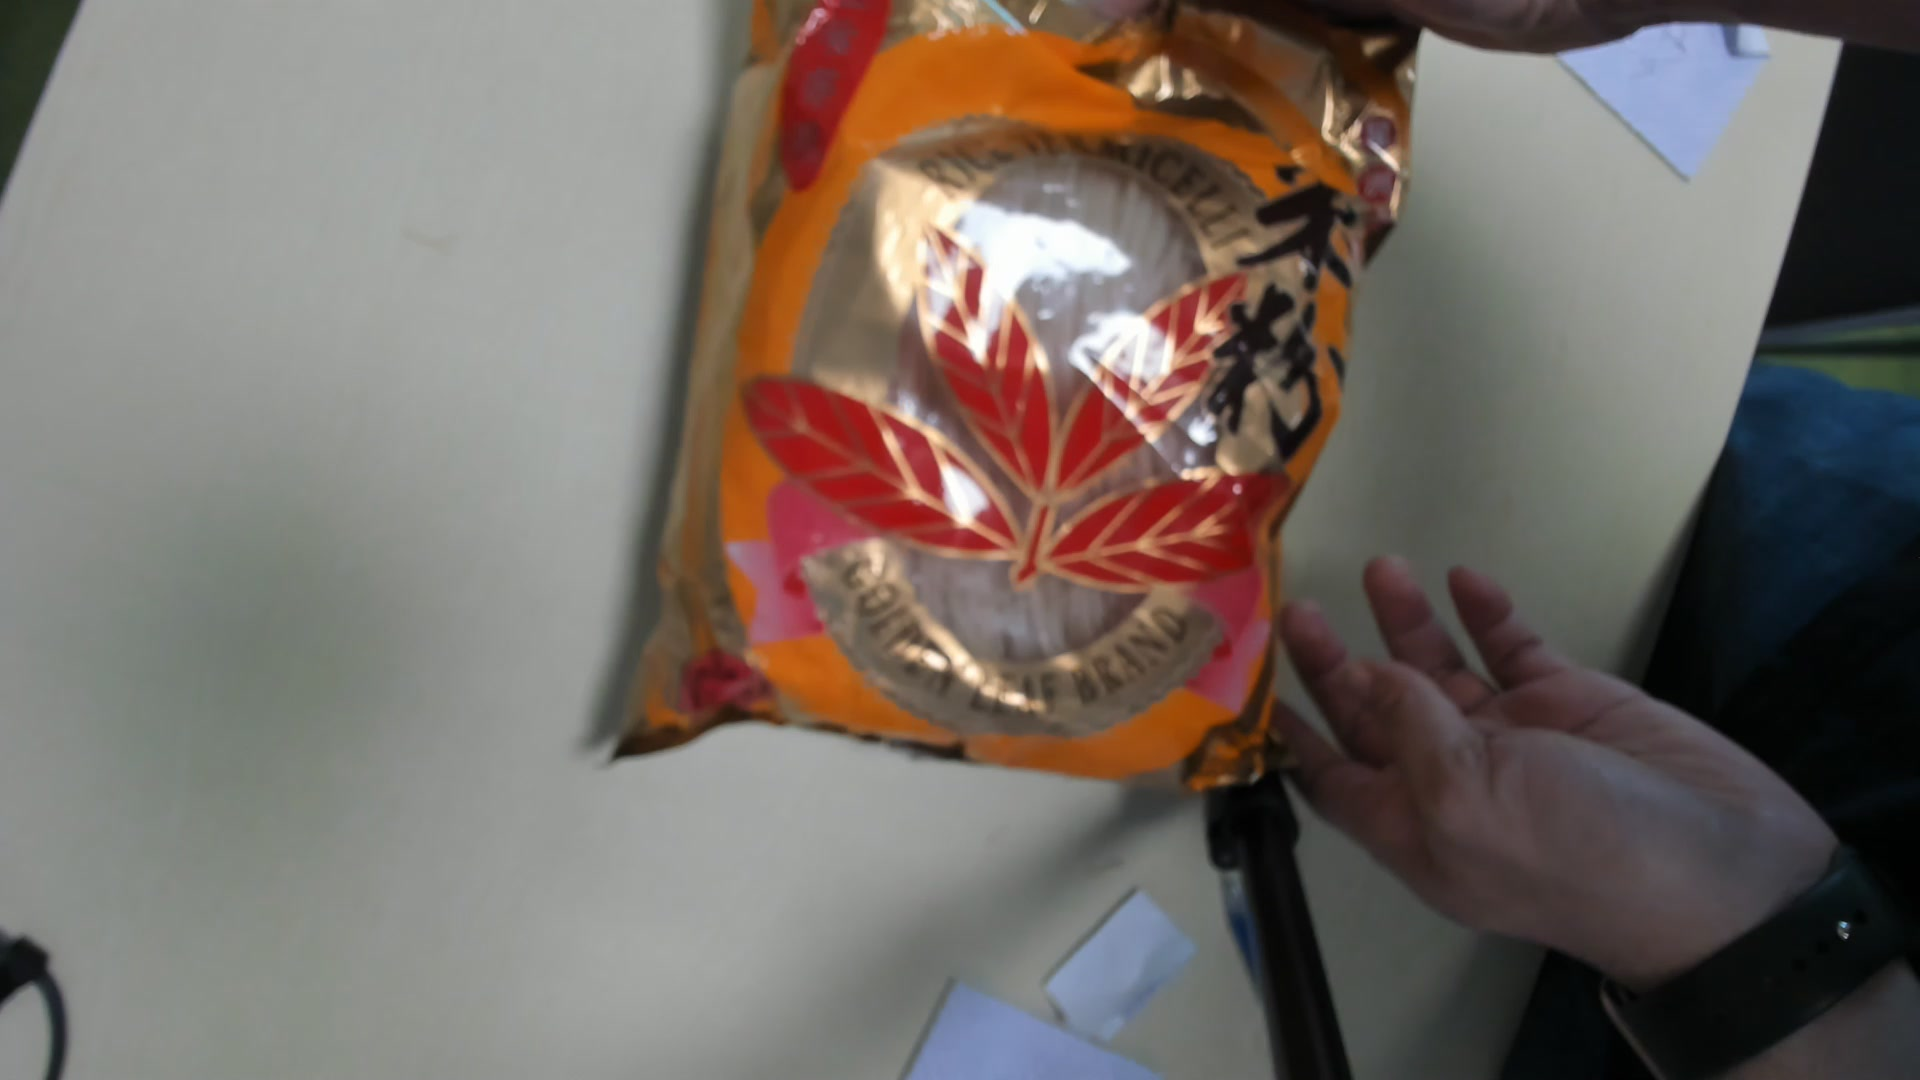OtherNoodles_400-499g_Halal_NonHealthy: (622, 9, 1419, 803)
